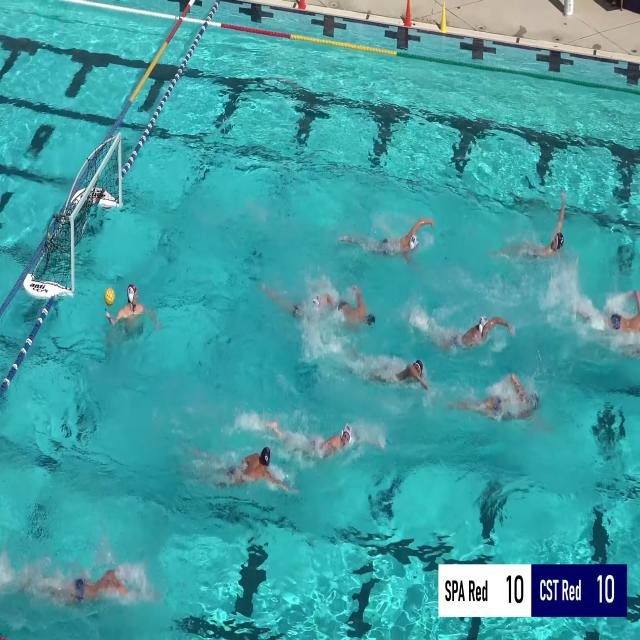ball: (104, 287, 115, 306)
